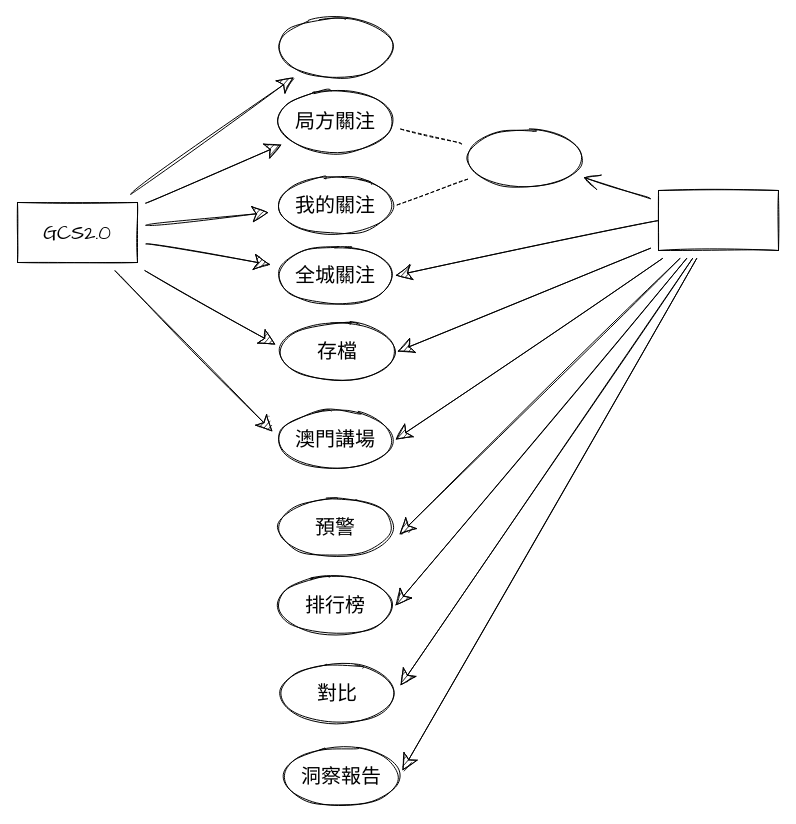
This 796x824 diagram has some shape labels left out. Here are the shapes that lost their labels. From the top down, the box of each, then its label:
(274, 16, 396, 78): 首頁
(464, 128, 584, 188): j監測
(658, 190, 778, 250): Pulse2.0
